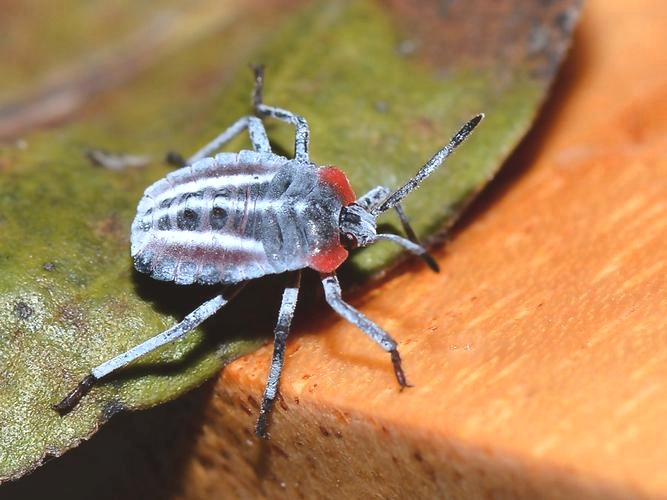Stink_Bug: (136, 127, 433, 311)
